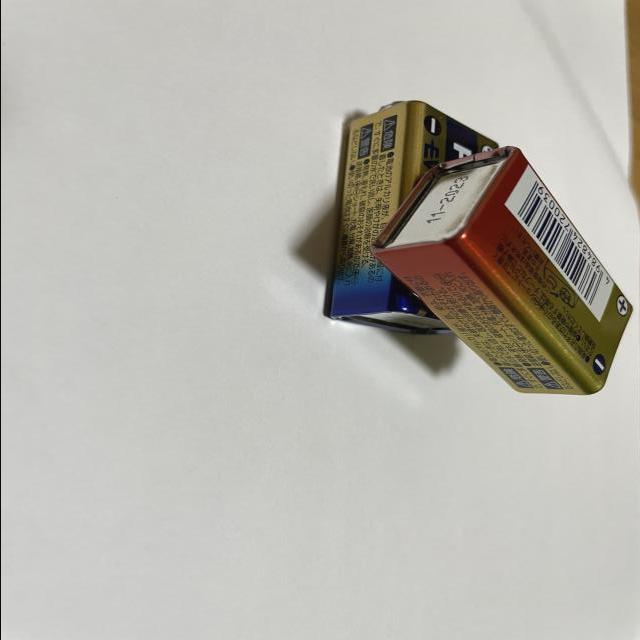9V: (370, 146, 632, 397), (324, 100, 501, 336)
